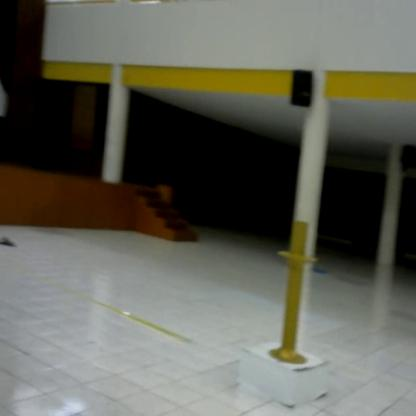pole: (263, 218, 327, 369)
